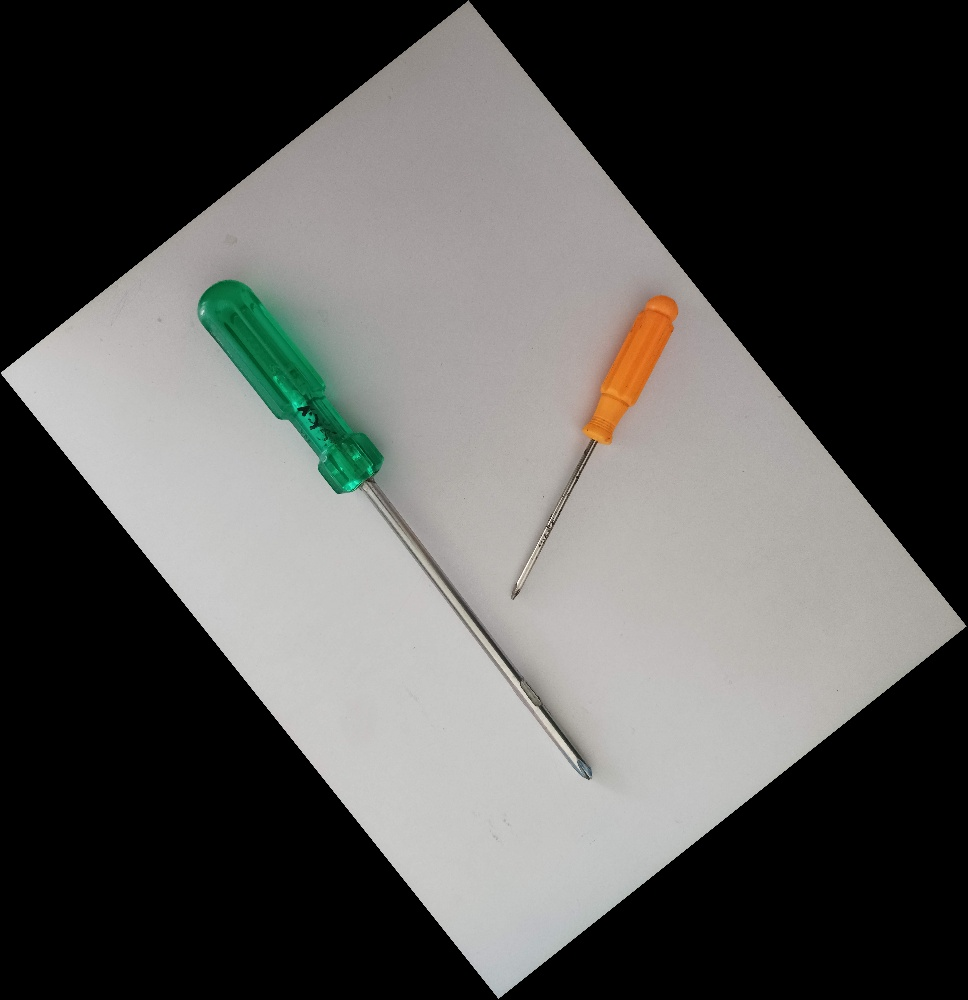screwdriver: (193, 272, 597, 784), (505, 288, 683, 605)
